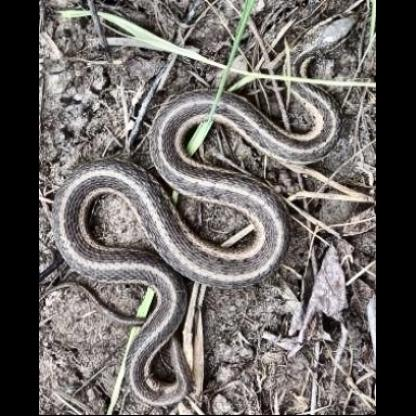Snake: (50, 67, 359, 410)
